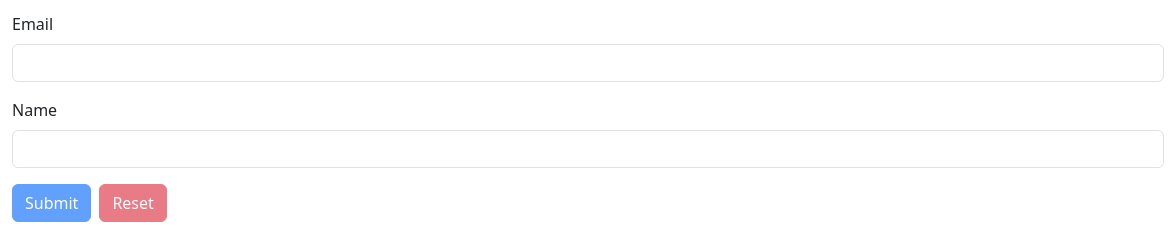
Test: DynamicBootstrapForm (integration with useForm) › resets the form
Note: Fill in the form
Type "abc@gmail.com" into the field labelled "Email".
click(588, 63); type("abc@gmail.com")  # box [12,44,1164,82]
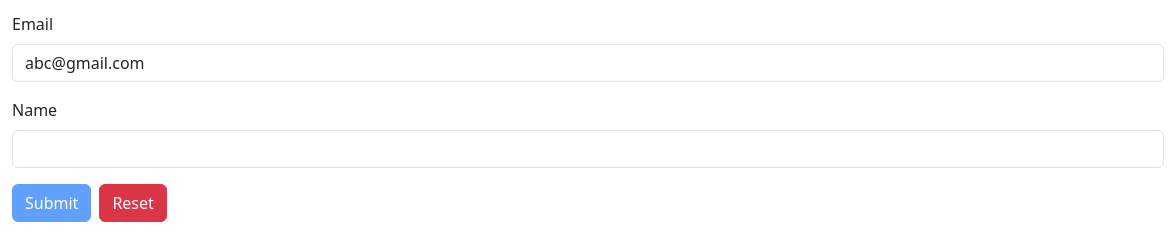
Type "Jane" into the field labelled "Name".
click(588, 149); type("Jane")  # box [12,130,1164,168]
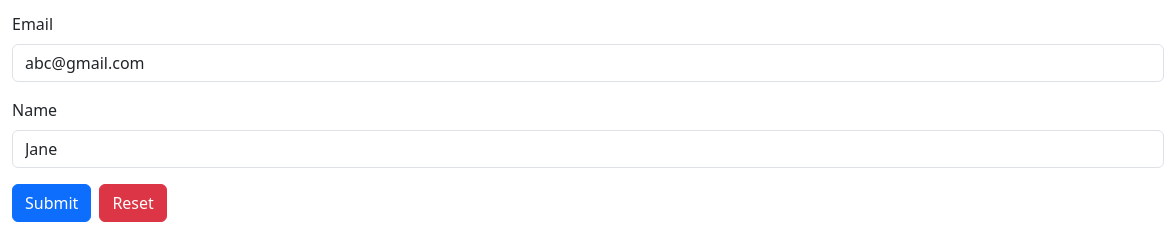
expect the button "Reset" does not have class "disabled": met
Click the button "Reset".
click(133, 203)  # box [99,184,167,222]
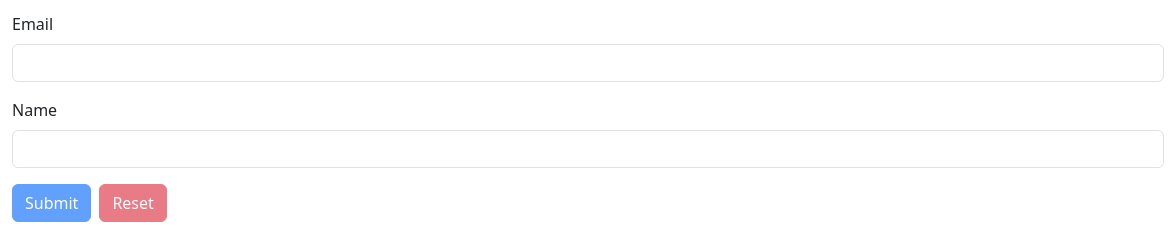
expect the field labelled "Email" is empty: met, box [12,44,1164,82]
expect the field labelled "Name" is empty: met, box [12,130,1164,168]
